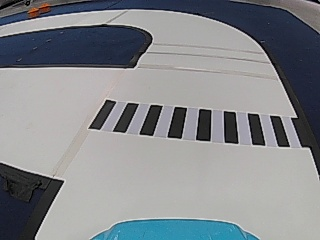CrossWalk: (93, 99, 300, 147)
